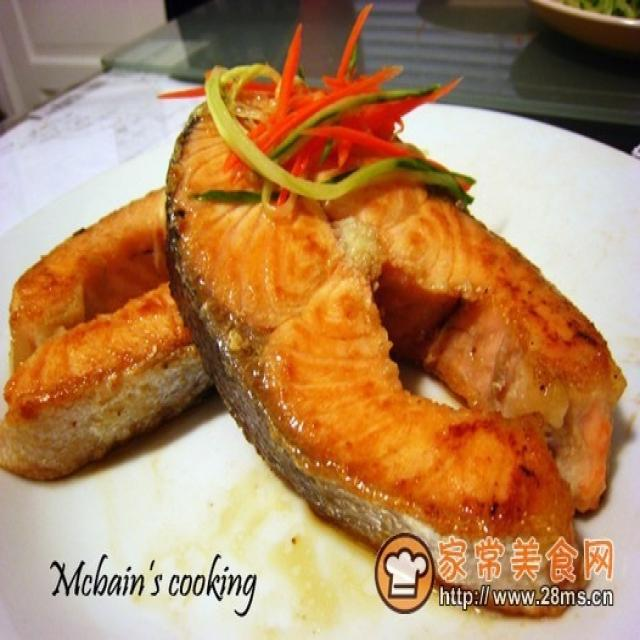熟制海鲜: (8, 14, 632, 624)
